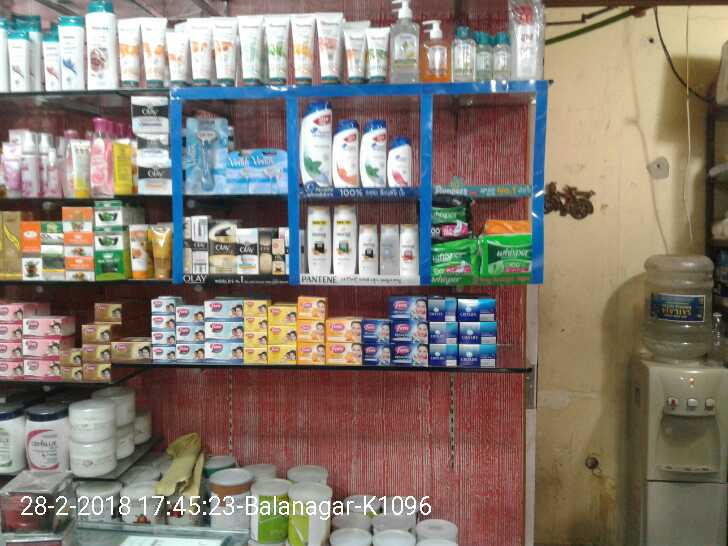venus: (188, 120, 226, 191), (251, 149, 286, 193), (227, 151, 251, 193)
